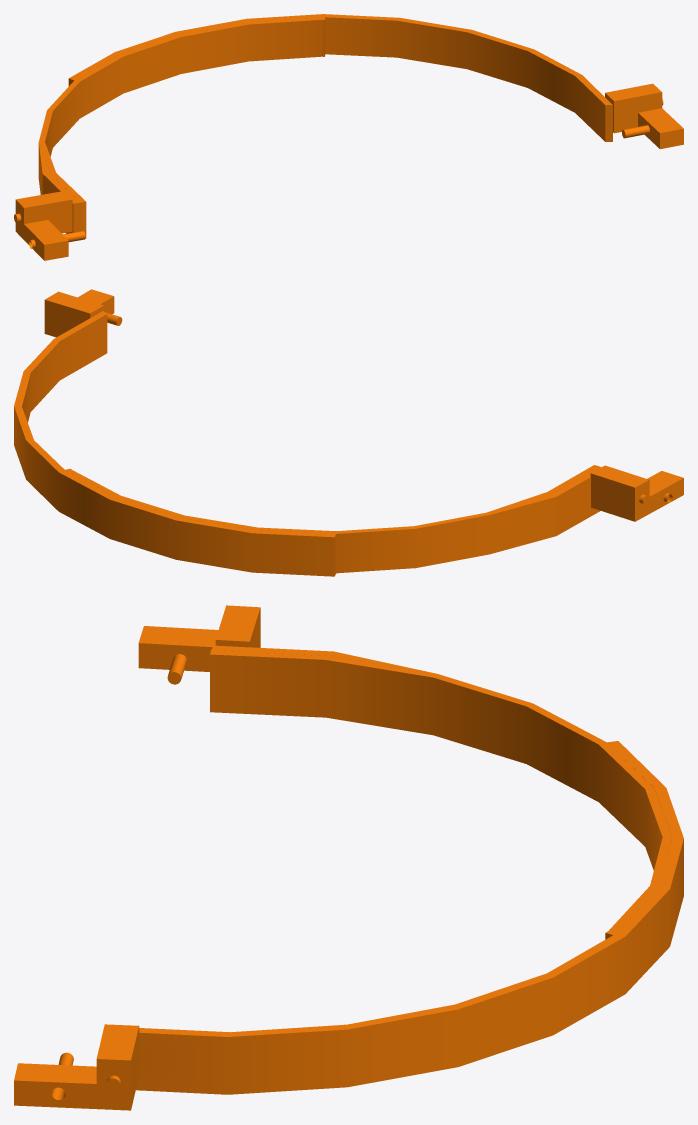
The model's file is strap.obj.
3 renders of one model, top to bottom at view 1: azimuth 30°, elevation 25°; view 2: azimuth 150°, elevation 25°; view 3: azimuth 270°, elevation 25°, orthographic. The views are drawn at different scales.
Parts seen in each view (by area): view 1: Mesh2 Group3 Group2 Group1 Model, Mesh8 Group1 Model, Mesh6 Group7 Group2 Group1 Model, Mesh3 Group5 Group4 Group2 Group1 Model, Mesh1 Group3 Group2 Group1 Model; view 2: Mesh2 Group3 Group2 Group1 Model, Mesh8 Group1 Model, Mesh1 Group3 Group2 Group1 Model, Mesh3 Group5 Group4 Group2 Group1 Model, Mesh6 Group7 Group2 Group1 Model; view 3: Mesh2 Group3 Group2 Group1 Model, Mesh8 Group1 Model, Mesh6 Group7 Group2 Group1 Model, Mesh3 Group5 Group4 Group2 Group1 Model, Mesh1 Group3 Group2 Group1 Model.
Boxes of the visible parts, <box> form: Mesh2 Group3 Group2 Group1 Model: <box>68,14,612,141</box>; Mesh8 Group1 Model: <box>39,17,325,238</box>; Mesh6 Group7 Group2 Group1 Model: <box>605,83,683,149</box>; Mesh3 Group5 Group4 Group2 Group1 Model: <box>15,191,72,260</box>; Mesh1 Group3 Group2 Group1 Model: <box>38,142,80,233</box>; Mesh2 Group3 Group2 Group1 Model: <box>14,311,336,576</box>; Mesh8 Group1 Model: <box>65,465,599,573</box>; Mesh1 Group3 Group2 Group1 Model: <box>489,466,601,554</box>; Mesh3 Group5 Group4 Group2 Group1 Model: <box>590,465,683,521</box>; Mesh6 Group7 Group2 Group1 Model: <box>44,289,122,337</box>; Mesh2 Group3 Group2 Group1 Model: <box>136,741,683,1094</box>; Mesh8 Group1 Model: <box>210,650,672,939</box>; Mesh6 Group7 Group2 Group1 Model: <box>14,1024,139,1110</box>; Mesh3 Group5 Group4 Group2 Group1 Model: <box>138,605,260,671</box>; Mesh1 Group3 Group2 Group1 Model: <box>211,645,435,673</box>.
Size of the model in its own units: 9.92 by 0.6446 by 6.05.
